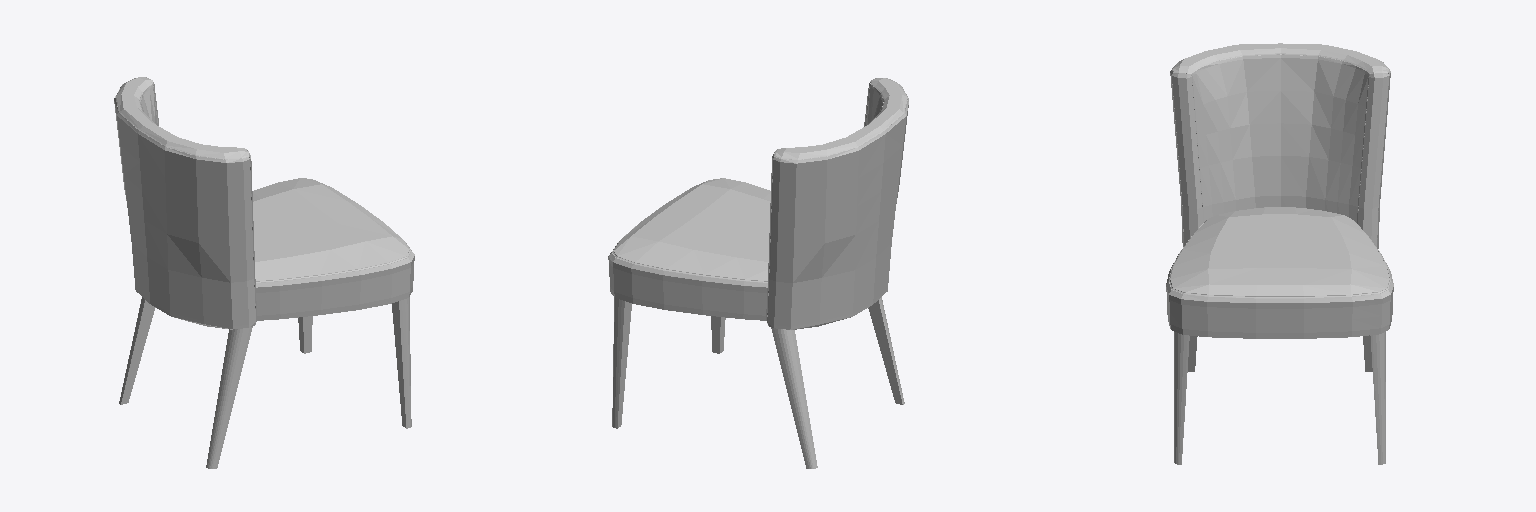
The model's file is Chair.obj.
3 renders of one model, left to right at view 1: azimuth 30°, elevation 25°; view 2: azimuth 150°, elevation 25°; view 3: azimuth 270°, elevation 25°, orthographic.
Parts seen in each view (by area): view 1: Box003, Box002, Box005; view 2: Box003, Box002, Box005; view 3: Box003, Box002, Box005.
Boxes of the visible parts, <box> form: Box003: <box>114,77,256,329</box>; Box002: <box>253,178,414,320</box>; Box005: <box>119,297,411,468</box>; Box003: <box>766,78,908,329</box>; Box002: <box>608,178,770,320</box>; Box005: <box>612,297,904,468</box>; Box003: <box>1170,43,1390,248</box>; Box002: <box>1166,207,1393,338</box>; Box005: <box>1174,332,1385,464</box>.
Bounding box in the file's own units: 641 × 818 × 536.